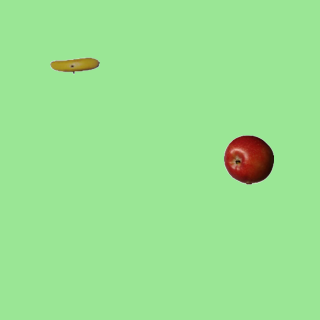Apple Braeburn: (223, 134, 273, 184)
Banana: (49, 40, 99, 90)
